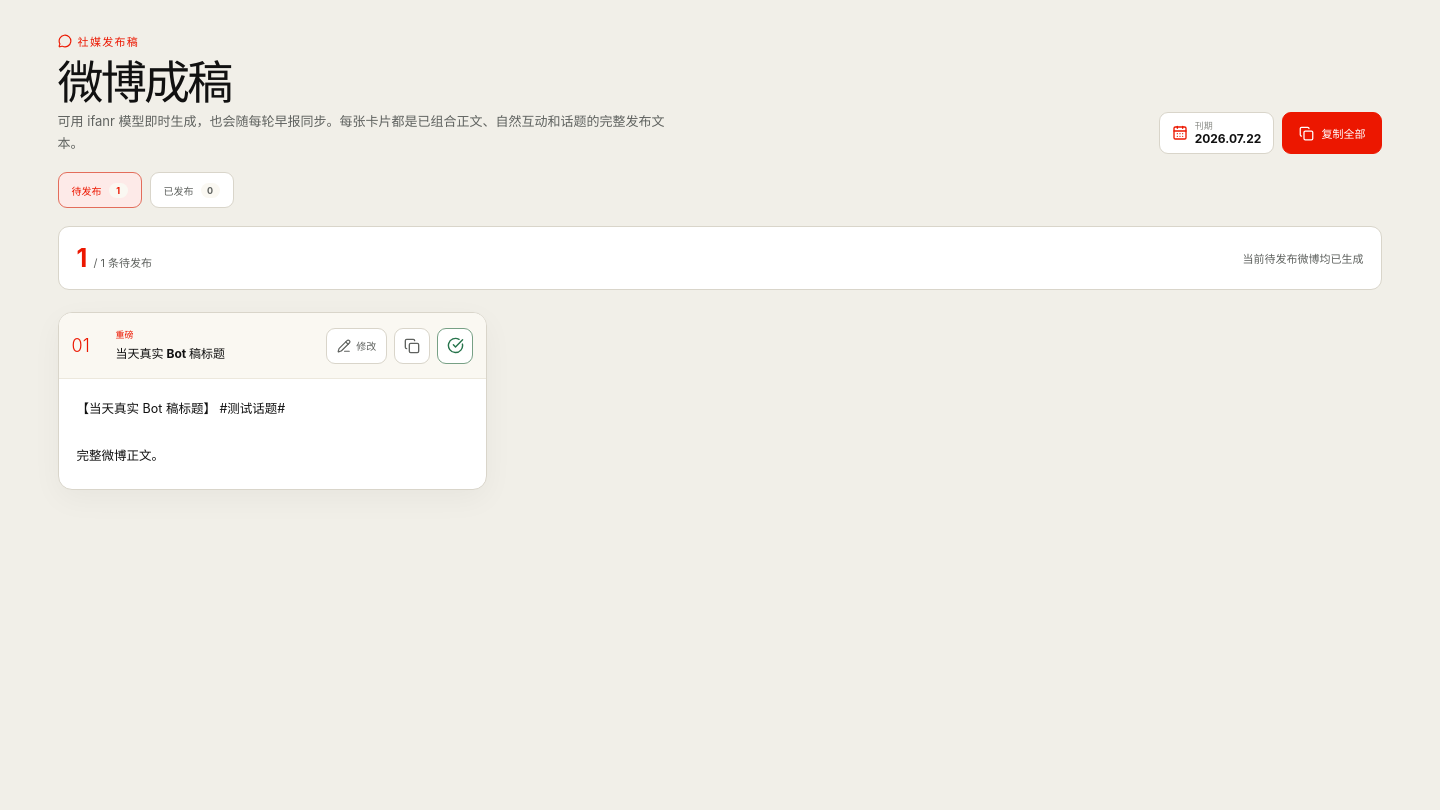
Test: App › revises a Weibo post with either AI judgment or optional user feedback
Click the button with aria-label "修改微博".
click(357, 346)  # box [326,328,387,364]
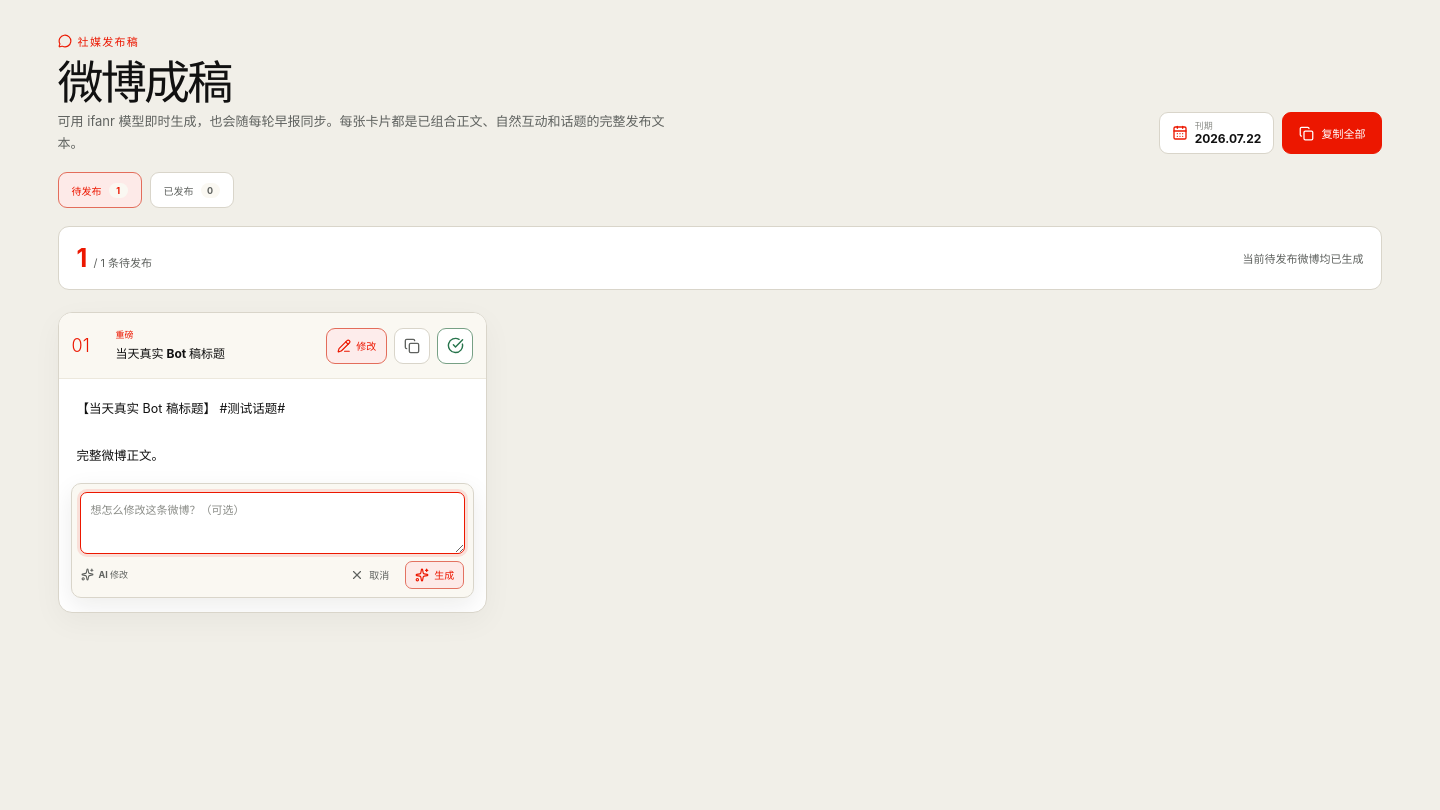
Now the text box with placeholder "想怎么修改这条微博？（可选）" is shown, box [80,492,465,554]
Click the button "生成".
click(435, 575)  # box [405,561,464,589]
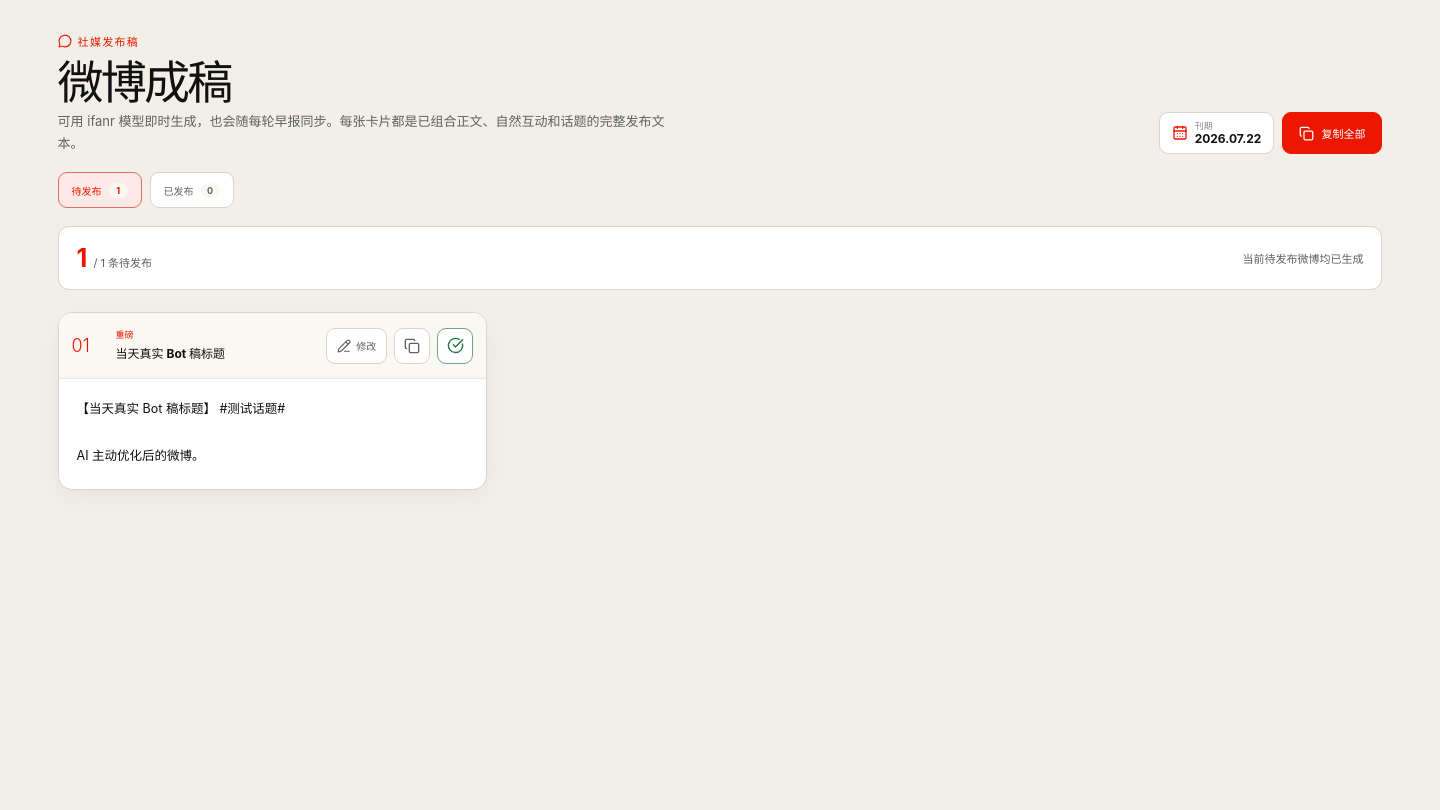
Now the text "【当天真实 Bot 稿标题】 #测试话题# AI 主动优化后的微博。" is shown, box [77,401,285,463]
Click the button with aria-label "修改微博".
click(357, 346)  # box [326,328,387,364]
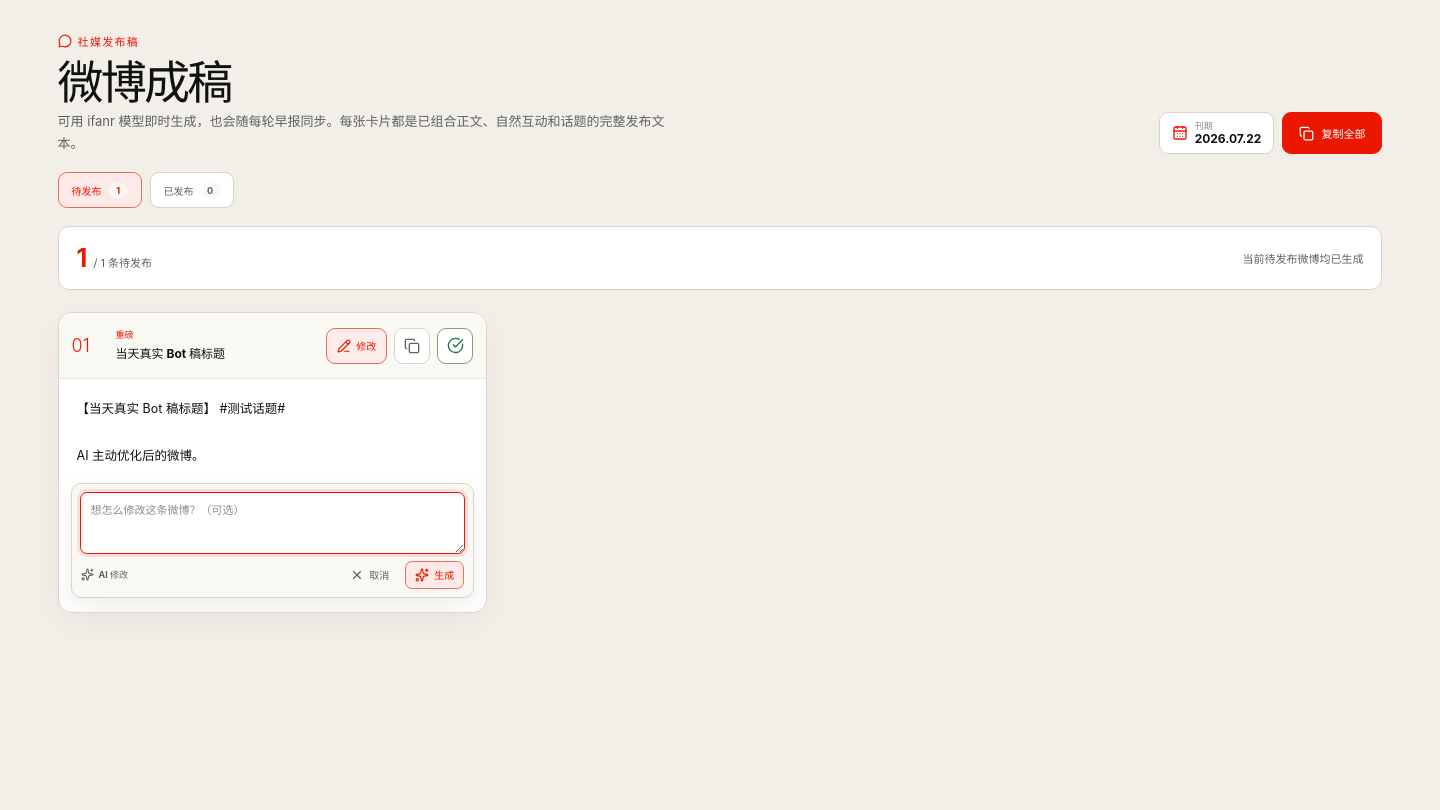
Type "把开头写得更直接" into the text box named "微博修改意见".
click(272, 523); type("把开头写得更直接")  # box [80,492,465,554]
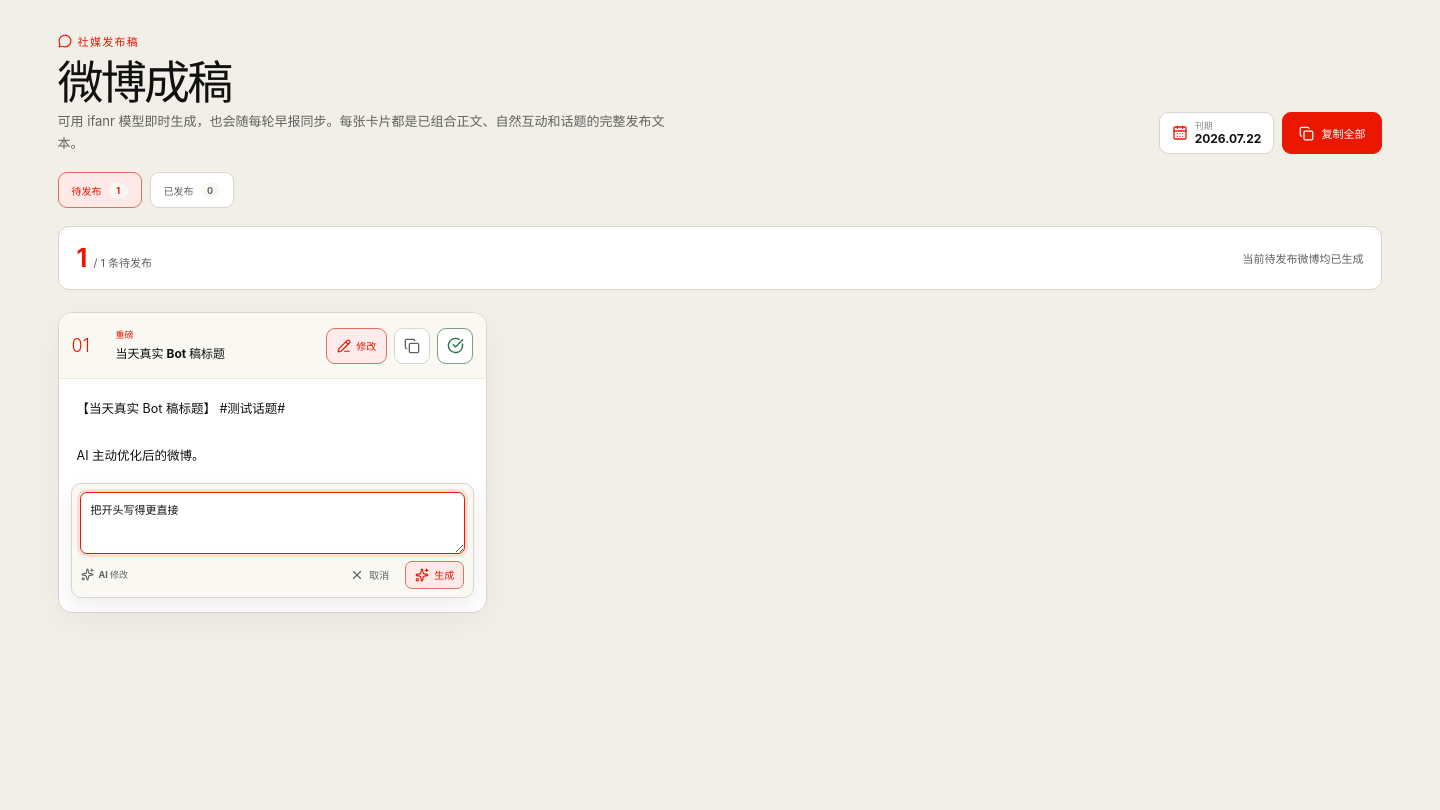
Click the button "生成".
click(435, 575)  # box [405,561,464,589]
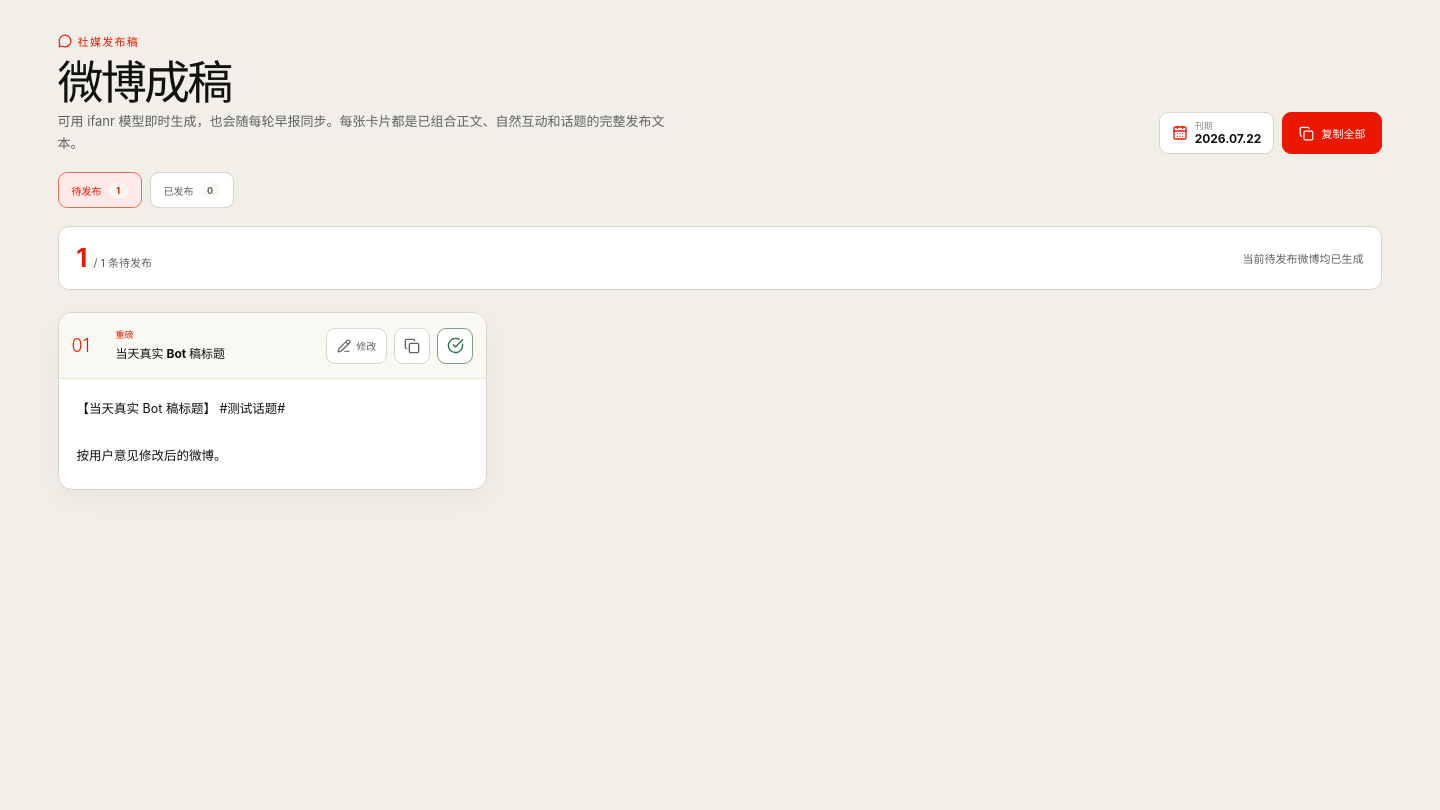
Now the text "【当天真实 Bot 稿标题】 #测试话题# 按用户意见修改后的微博。" is shown, box [77,401,285,463]
